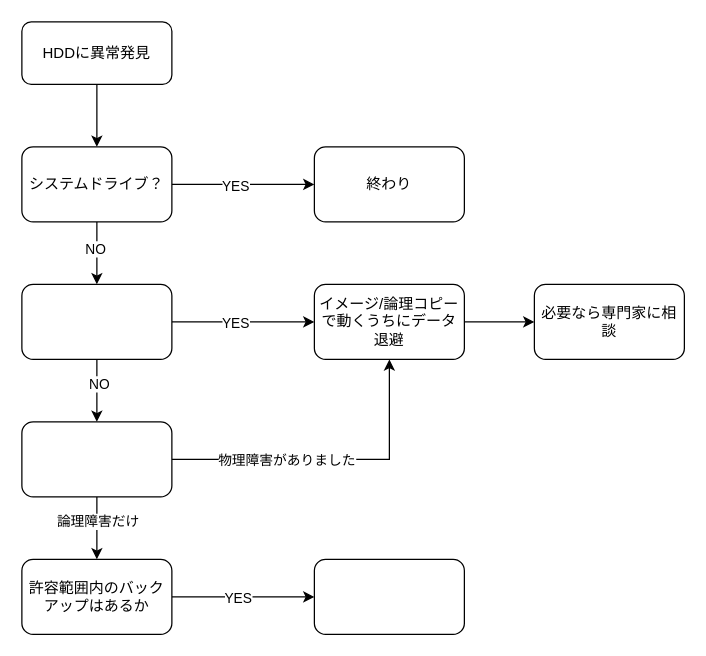
The diagram is 706 pixels wide and 656 high, and some of its shapes have lost their labels. The box of each missing label's shape, as (x1, y1, x2, y2) in pixels:
本当に論理障害だけ？ SMARTやログ確認した？: (21, 421, 172, 497)
物理障害がないならフォーマットし再利用🉑: (313, 558, 464, 634)
物理障害？: (21, 283, 172, 359)
